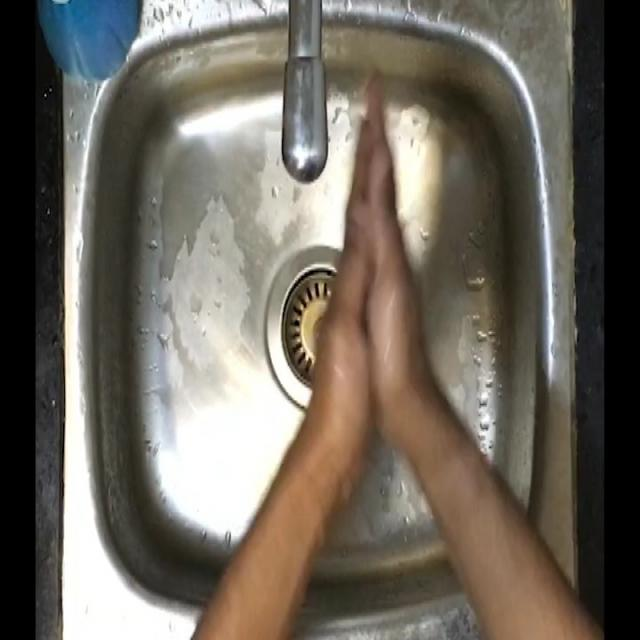step_1: (304, 61, 433, 402)
